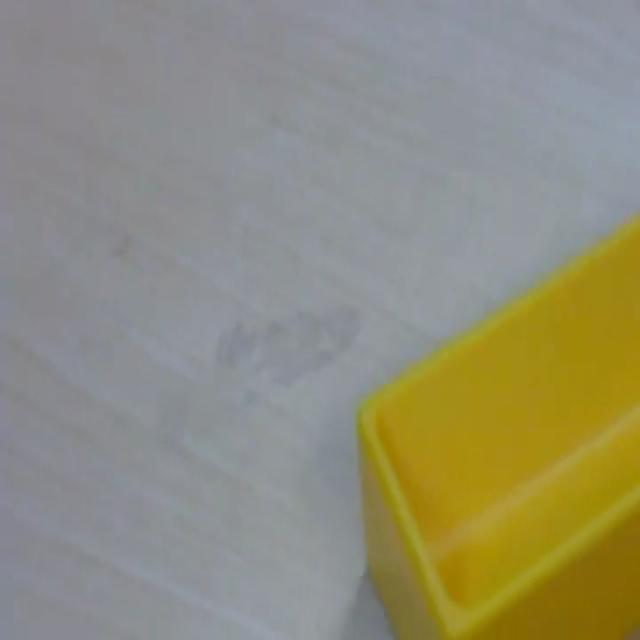yellow_block: (355, 209, 638, 636)
